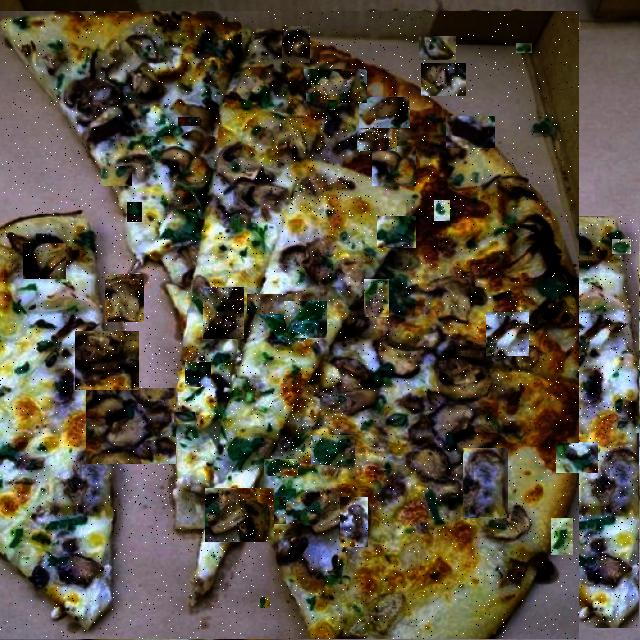Basil: (157, 268, 201, 320), (284, 301, 327, 338), (23, 243, 66, 279), (311, 435, 355, 465), (556, 443, 598, 473), (377, 216, 416, 248), (551, 518, 573, 555), (7, 277, 37, 304), (491, 514, 536, 530), (260, 497, 286, 524), (185, 362, 211, 387), (101, 166, 132, 186), (264, 460, 298, 478), (234, 556, 254, 586), (434, 200, 450, 221), (127, 202, 142, 222), (612, 240, 631, 254), (174, 412, 195, 424), (547, 362, 563, 376), (178, 118, 200, 128), (516, 43, 532, 53), (326, 100, 340, 110), (260, 598, 270, 610), (306, 94, 316, 104), (635, 417, 640, 433), (190, 137, 202, 141)
Mushrooms: (86, 388, 176, 464), (280, 374, 342, 469), (75, 331, 139, 390), (205, 488, 274, 542), (112, 445, 170, 508), (210, 352, 259, 421), (464, 448, 509, 518), (507, 230, 577, 271), (272, 113, 330, 162), (289, 176, 354, 216), (470, 550, 526, 589), (304, 69, 367, 103), (203, 287, 244, 339), (149, 344, 211, 375), (486, 312, 529, 356), (457, 79, 518, 110), (105, 274, 144, 322), (246, 238, 295, 274), (372, 146, 416, 186), (359, 97, 410, 128), (446, 116, 495, 148), (422, 64, 468, 98), (341, 497, 368, 547), (282, 26, 310, 63), (364, 279, 389, 317), (247, 294, 292, 314), (419, 36, 456, 60), (357, 129, 397, 151)
Pizza: (0, 11, 579, 639), (468, 217, 640, 627)
